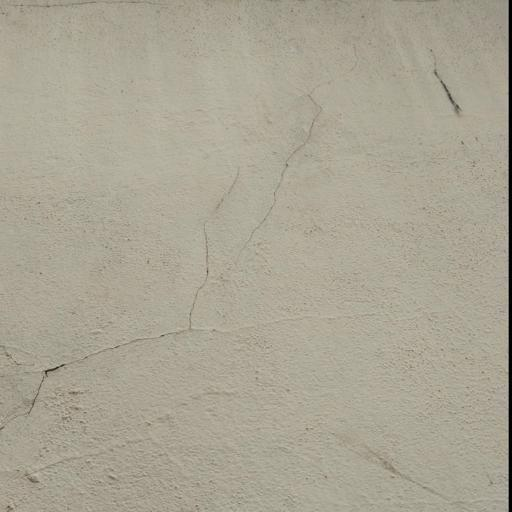minor_crack: (0, 176, 225, 441), (220, 66, 344, 348), (316, 418, 512, 512)
